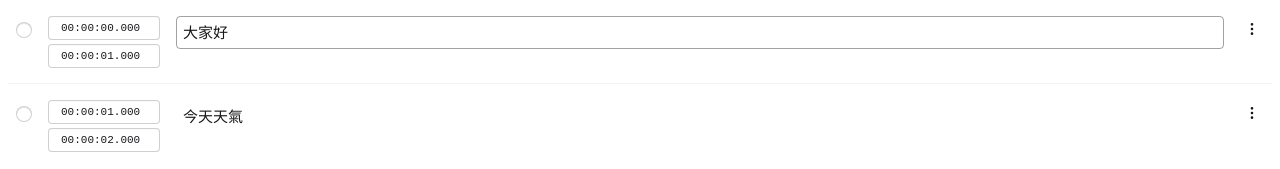
EditingField › puts back the text it was entered with on Esc after a refused split
Focus the field labelled "大家好" at (700, 32), box [176,16,1224,48]
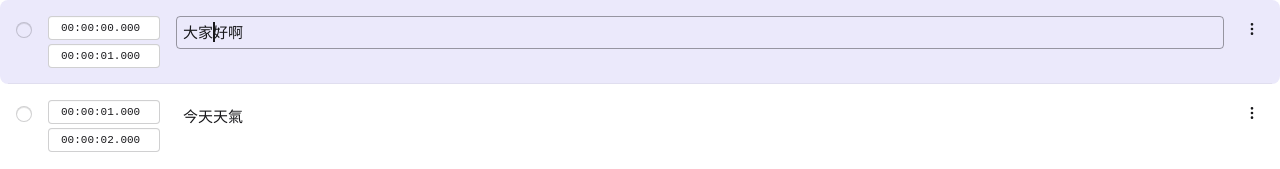
Press Escape in the field labelled "大家好啊", box [176,16,1224,48]
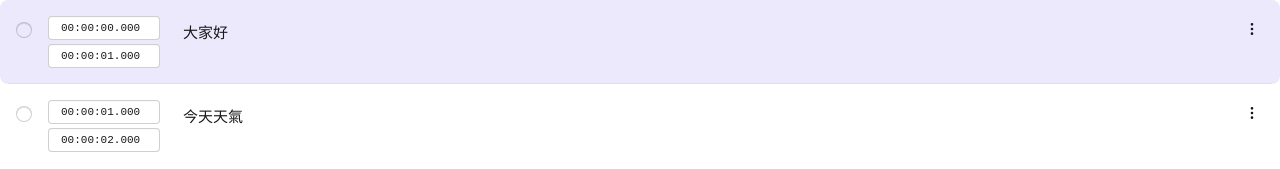
Expected: the field labelled "大家好" is shown, [183,22,228,42]
